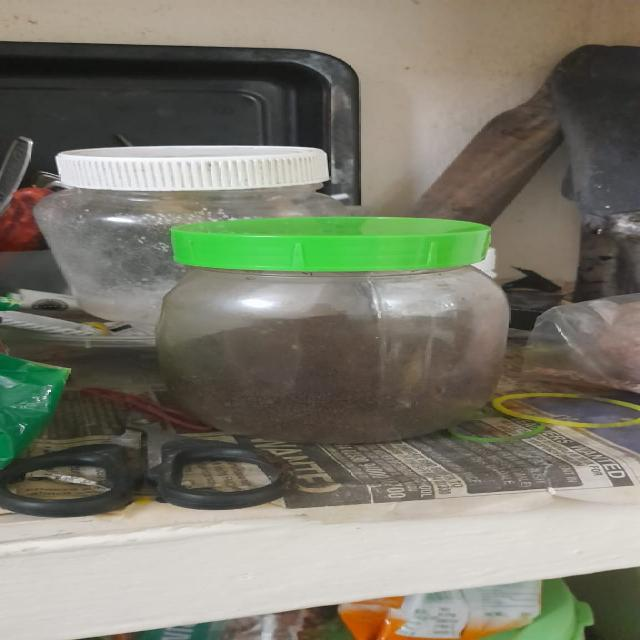Plastic - Recyclable: (151, 215, 513, 444)
